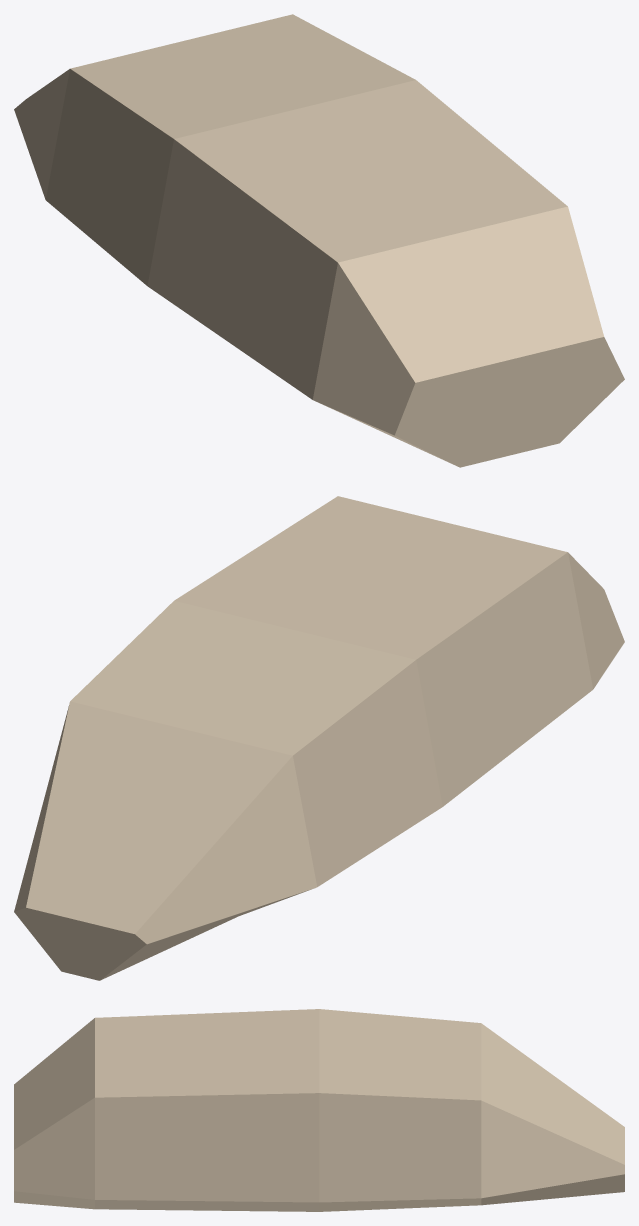
The model's file is hull_05_medium_transport.glb.
3 renders of one model, top to bottom at view 1: azimuth 30°, elevation 25°; view 2: azimuth 150°, elevation 25°; view 3: azimuth 270°, elevation 25°, orthographic. The views are drawn at different scales.
Visible parts, largest first — view 1: Hull_05_MediumTransport; view 2: Hull_05_MediumTransport; view 3: Hull_05_MediumTransport.
Part boxes in pixels (x1=…): Hull_05_MediumTransport: x1=14, y1=14, x2=624, y2=467; Hull_05_MediumTransport: x1=14, y1=496, x2=624, y2=980; Hull_05_MediumTransport: x1=14, y1=1009, x2=624, y2=1211.
Bounding box in the file's own units: 2.7 × 1.65 × 6.8.
